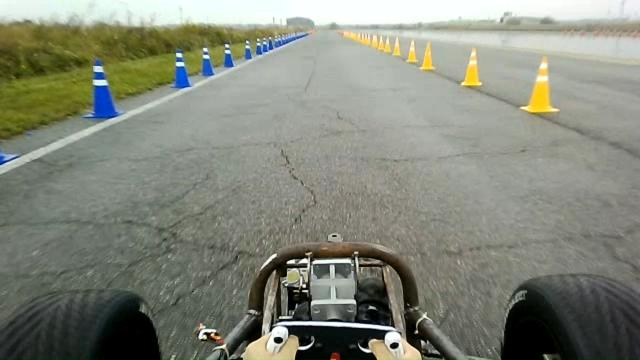blue cone: (83, 58, 124, 119), (170, 48, 192, 88), (200, 46, 215, 76), (223, 42, 235, 68), (244, 39, 252, 60), (255, 38, 263, 56)
yellow cone: (520, 55, 560, 114), (461, 47, 482, 87), (420, 41, 434, 70), (406, 39, 418, 63), (392, 36, 401, 56), (383, 34, 392, 54)
